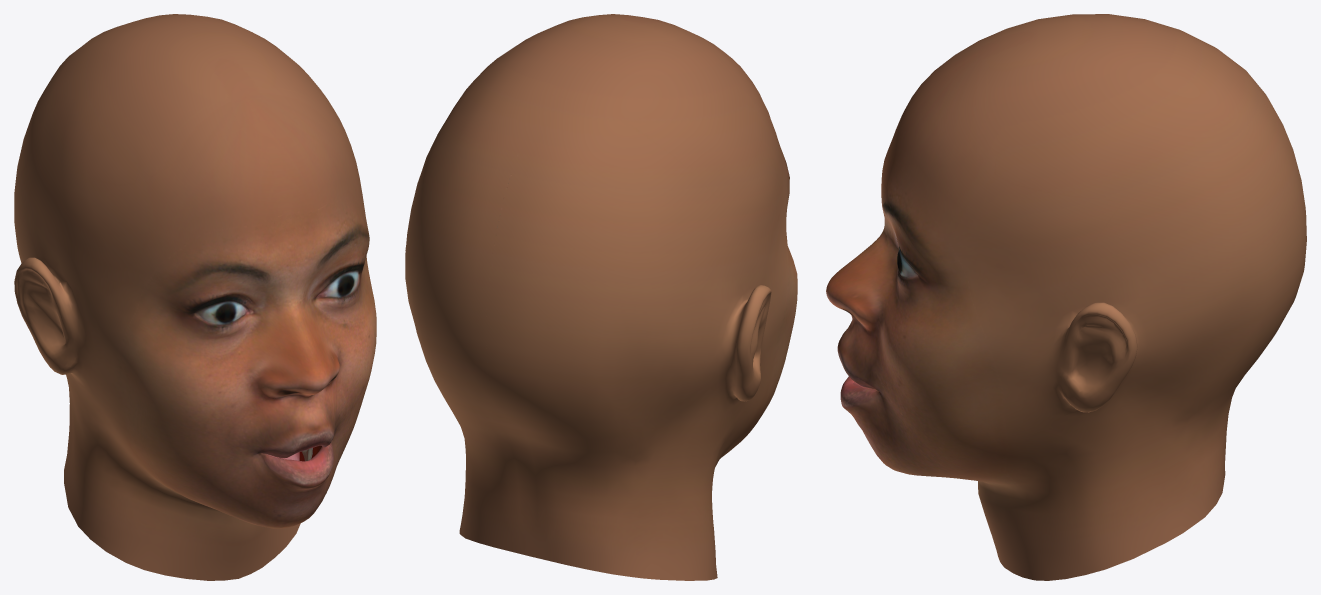
File: v332_obj_Phonemeoh.obj
The picture shows the model from 3 angles, left to right: view 1: azimuth 30°, elevation 25°; view 2: azimuth 150°, elevation 25°; view 3: azimuth 270°, elevation 25°; orthographic projection. The views are drawn at different scales.
Visible parts, largest first — view 1: HeadHires; view 2: HeadHires; view 3: HeadHires.
Boxes of the visible parts, box(x1,y1,x2,y2) form: HeadHires: box(14, 14, 376, 580); HeadHires: box(405, 14, 797, 580); HeadHires: box(826, 14, 1306, 580).
Bounding box in the file's own units: 187 × 283 × 233.
